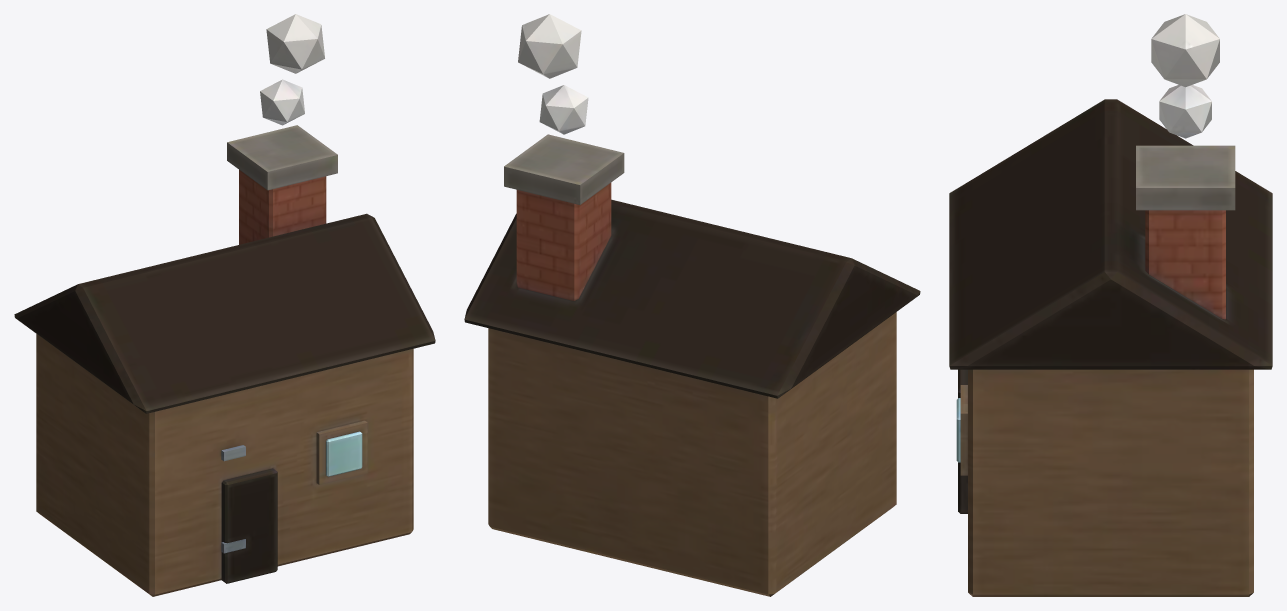
File: smokehouse-1-age10.glb
3 views of the same model, side by side, from view 1: azimuth 30°, elevation 25°; view 2: azimuth 150°, elevation 25°; view 3: azimuth 270°, elevation 25° (orthographic). The views are drawn at different scales.
Visible parts, largest first — view 1: smokehouse-1-age10; view 2: smokehouse-1-age10; view 3: smokehouse-1-age10.
Boxes of the visible parts, bbox=[...] form: smokehouse-1-age10: bbox=[14, 14, 435, 596]; smokehouse-1-age10: bbox=[464, 14, 920, 596]; smokehouse-1-age10: bbox=[949, 14, 1272, 596].
Bounding box in the file's own units: 0.68 × 1 × 0.52.
1 material, 1 textured.
